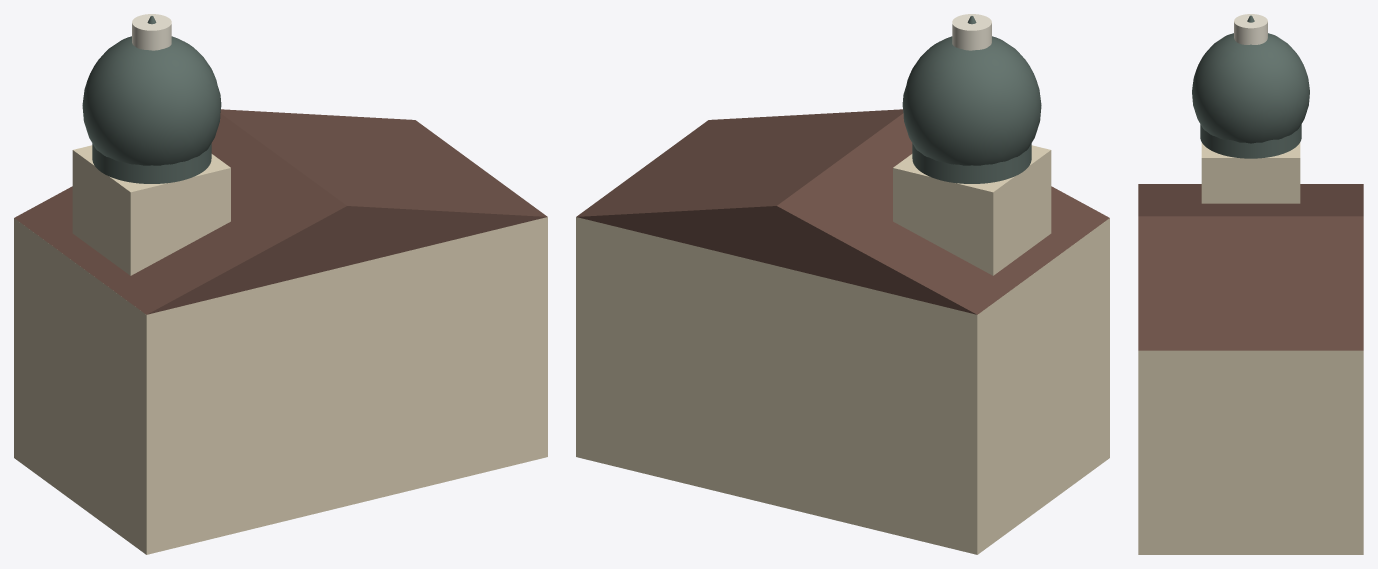
The model's file is d-ce-01-baroque-church-onion.glb.
3 views of the same model, side by side, from view 1: azimuth 30°, elevation 25°; view 2: azimuth 150°, elevation 25°; view 3: azimuth 270°, elevation 25° (orthographic). The views are drawn at different scales.
Visible parts, largest first — view 1: part0, part1, part4, part2, part3, part6; view 2: part0, part1, part4, part2, part3, part6; view 3: part0, part1, part4, part2, part3, part6.
Boxes of the visible parts, x1,y1,x2,y2 form: part0: [14, 217, 547, 554]; part1: [14, 109, 547, 314]; part4: [82, 36, 221, 165]; part2: [72, 145, 230, 275]; part3: [92, 143, 211, 183]; part6: [132, 14, 171, 50]; part0: [576, 217, 1109, 554]; part1: [576, 109, 1109, 314]; part4: [902, 36, 1041, 165]; part2: [893, 145, 1051, 275]; part3: [912, 143, 1031, 183]; part6: [952, 14, 991, 50]; part0: [1138, 350, 1363, 554]; part1: [1138, 184, 1363, 350]; part4: [1192, 33, 1309, 143]; part2: [1201, 142, 1300, 203]; part3: [1200, 124, 1301, 158]; part6: [1234, 14, 1267, 44].
Size of the model in its own units: 28000 by 31501 by 16002.
